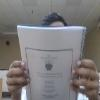notebook: (16, 24, 87, 99)
